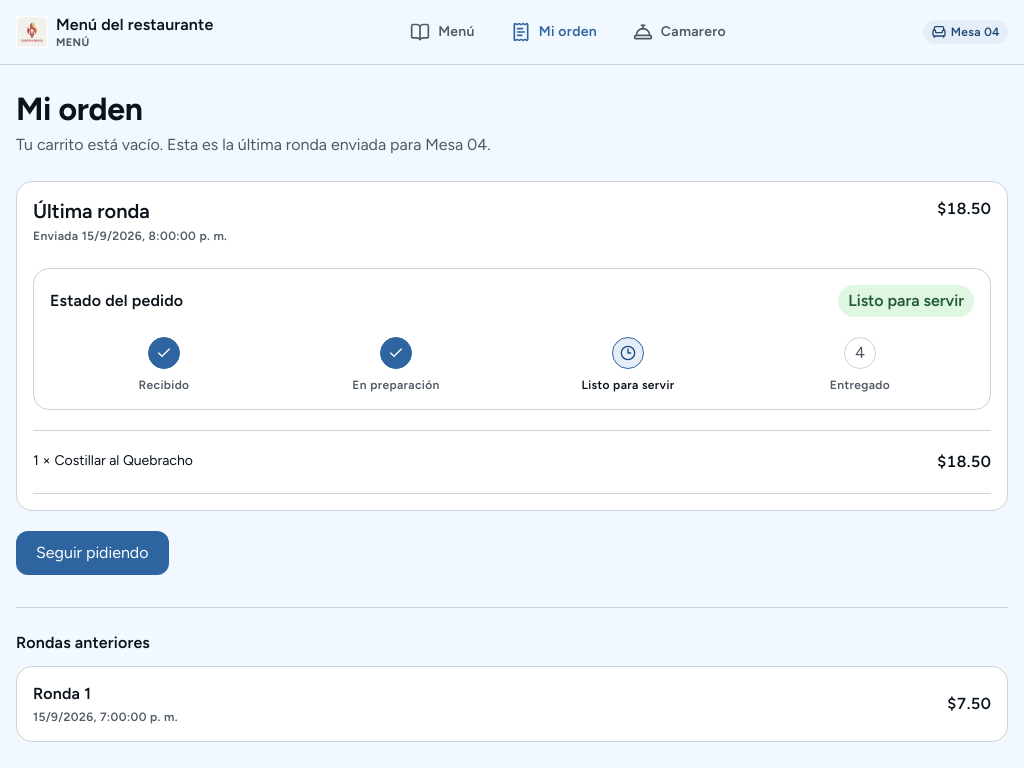
Test: MiOrdenPage sin carrito activo › muestra el estado de cocina de una ronda anterior dentro de su modal
Click the button with aria-label "Ver detalle de Ronda 1": (59, 694) x1=16 y1=666 x2=1008 y2=742
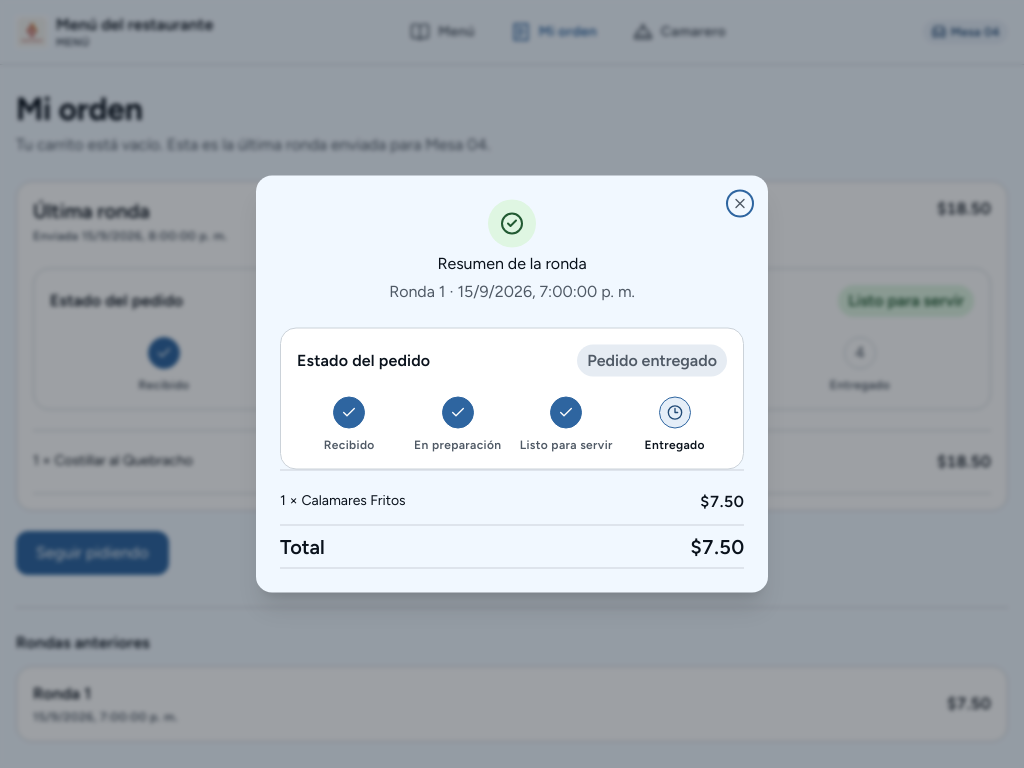
Expected: the heading "Estado del pedido" is shown, x1=297 y1=350 x2=430 y2=372
Expected: the message reads "Pedido entregado", x1=587 y1=350 x2=717 y2=370
